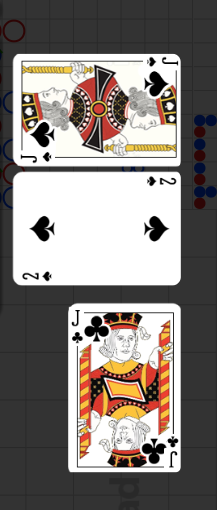2S: (144, 175, 177, 188)
JC: (165, 434, 179, 469)
JS: (132, 55, 179, 99), (12, 122, 58, 166)
